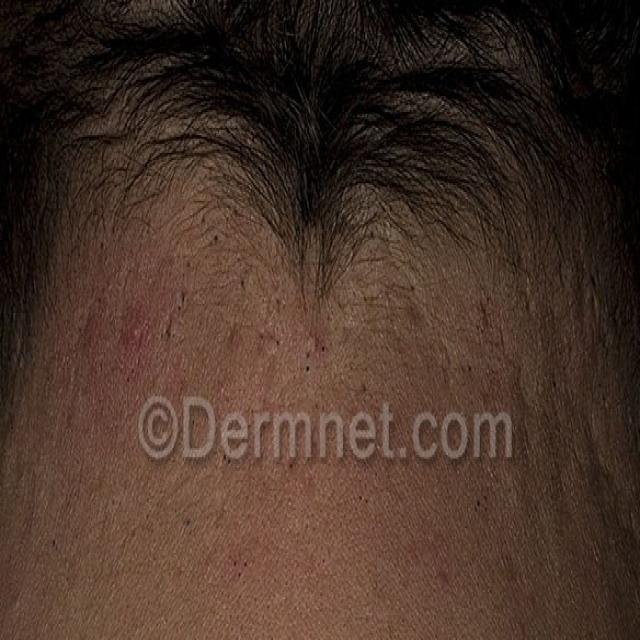Acne: (182, 191, 339, 409)
